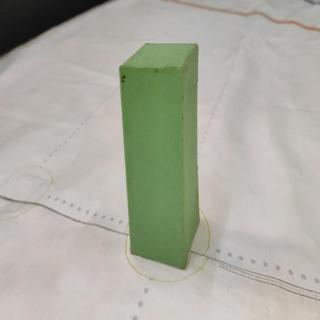greenbox: (118, 43, 201, 269)
